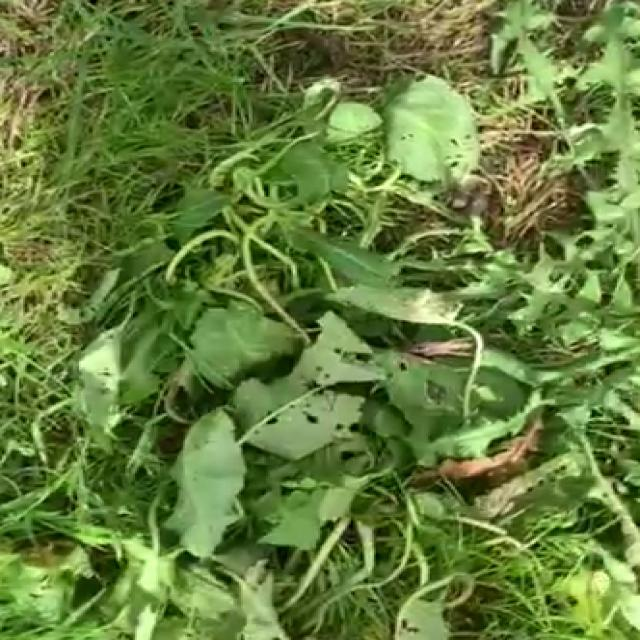organic waste: (87, 280, 520, 560), (131, 88, 565, 350)
